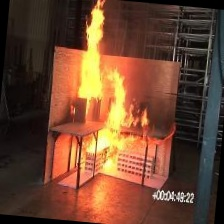fire: (62, 0, 129, 121), (89, 67, 137, 186)
